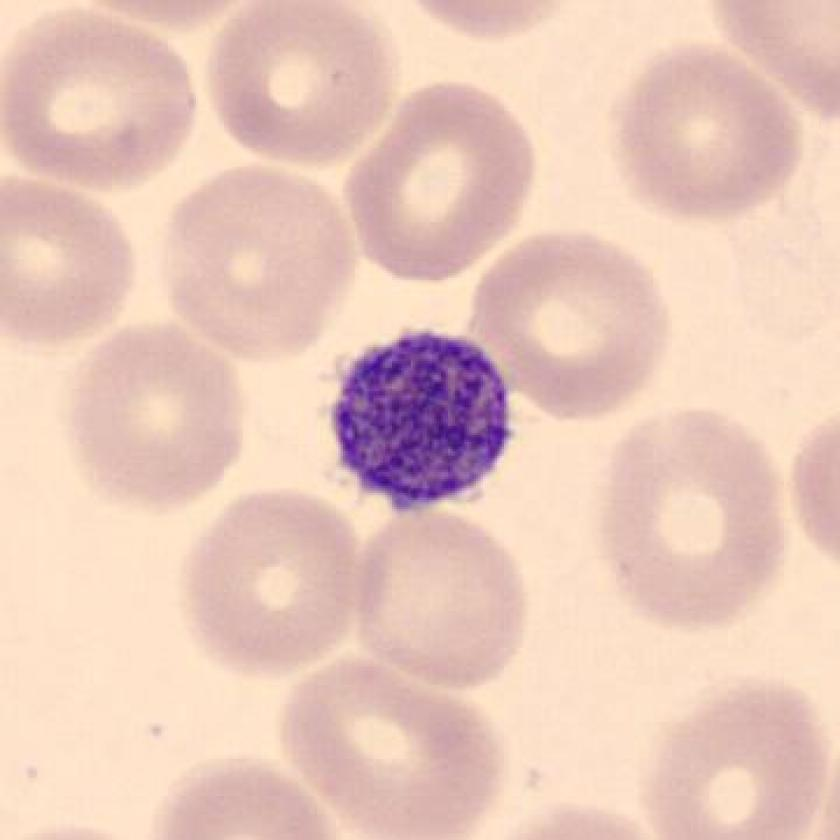platelets: (323, 316, 524, 522)
